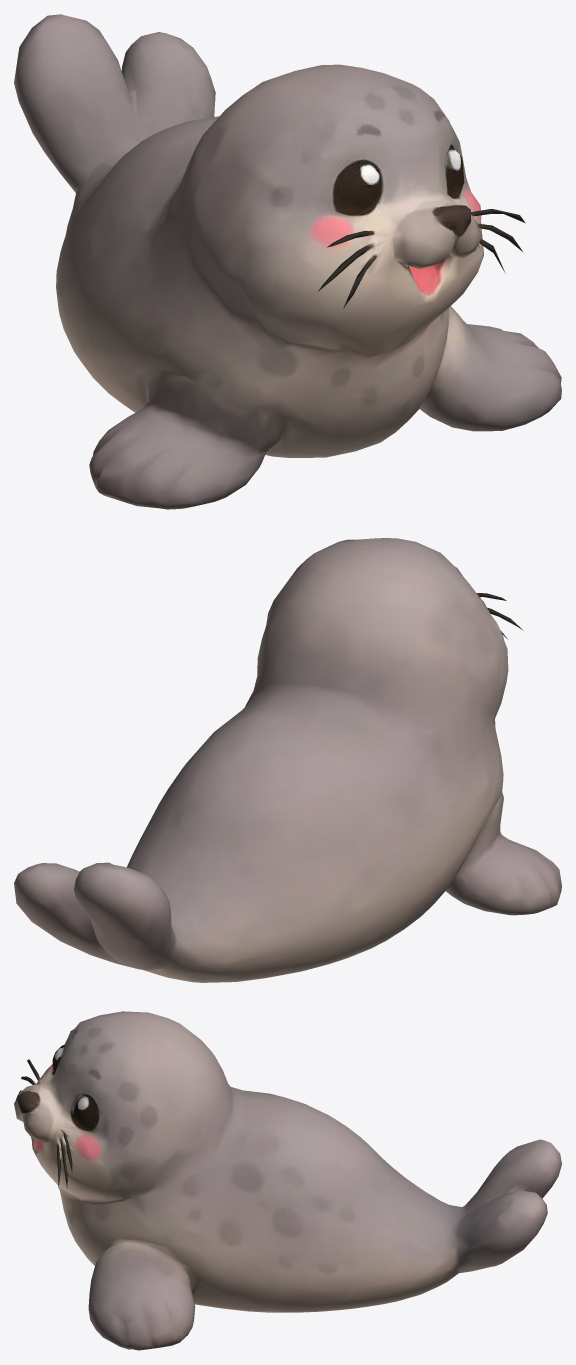
Rendered from seal.glb.
3 renders of one model, top to bottom at view 1: azimuth 30°, elevation 25°; view 2: azimuth 150°, elevation 25°; view 3: azimuth 270°, elevation 25°, orthographic. The views are drawn at different scales.
Parts seen in each view (by area): view 1: tripo_node_e8620eb8-2f01-45da-99ec-c5c1f88a95e0; view 2: tripo_node_e8620eb8-2f01-45da-99ec-c5c1f88a95e0; view 3: tripo_node_e8620eb8-2f01-45da-99ec-c5c1f88a95e0.
Boxes of the visible parts, x1,y1,x2,y2 form: tripo_node_e8620eb8-2f01-45da-99ec-c5c1f88a95e0: [14, 14, 561, 509]; tripo_node_e8620eb8-2f01-45da-99ec-c5c1f88a95e0: [14, 538, 561, 982]; tripo_node_e8620eb8-2f01-45da-99ec-c5c1f88a95e0: [14, 1011, 561, 1350].
Bounding box in the file's own units: 0.6619 × 0.5159 × 1.
1 material, 1 textured.
